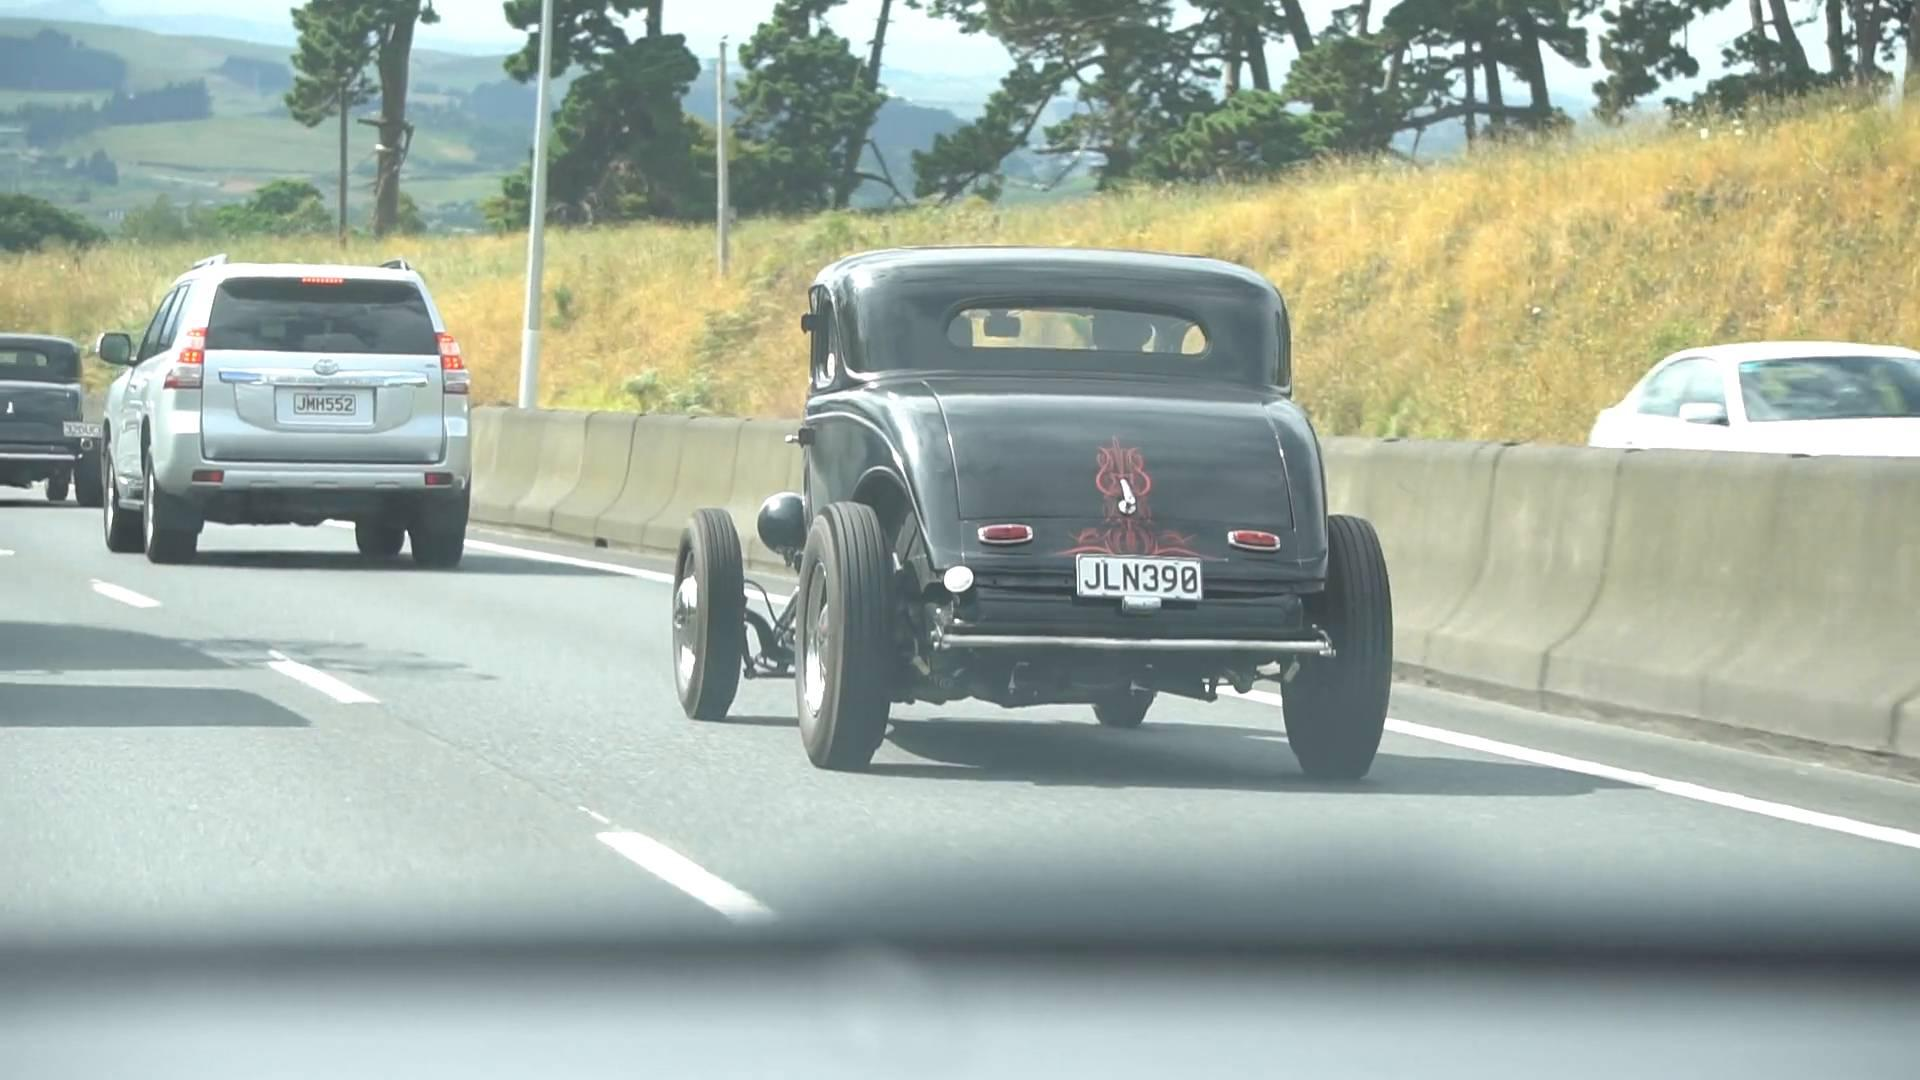car: (660, 242, 1392, 788), (91, 257, 471, 567)
license_plate: (1076, 556, 1209, 604), (293, 390, 359, 414)
